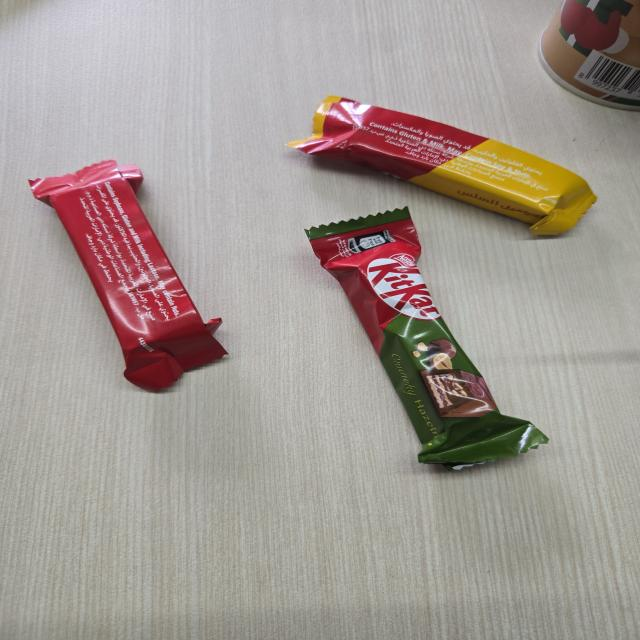chocolate-bar: (292, 196, 559, 482), (20, 149, 239, 397), (279, 82, 602, 246)
